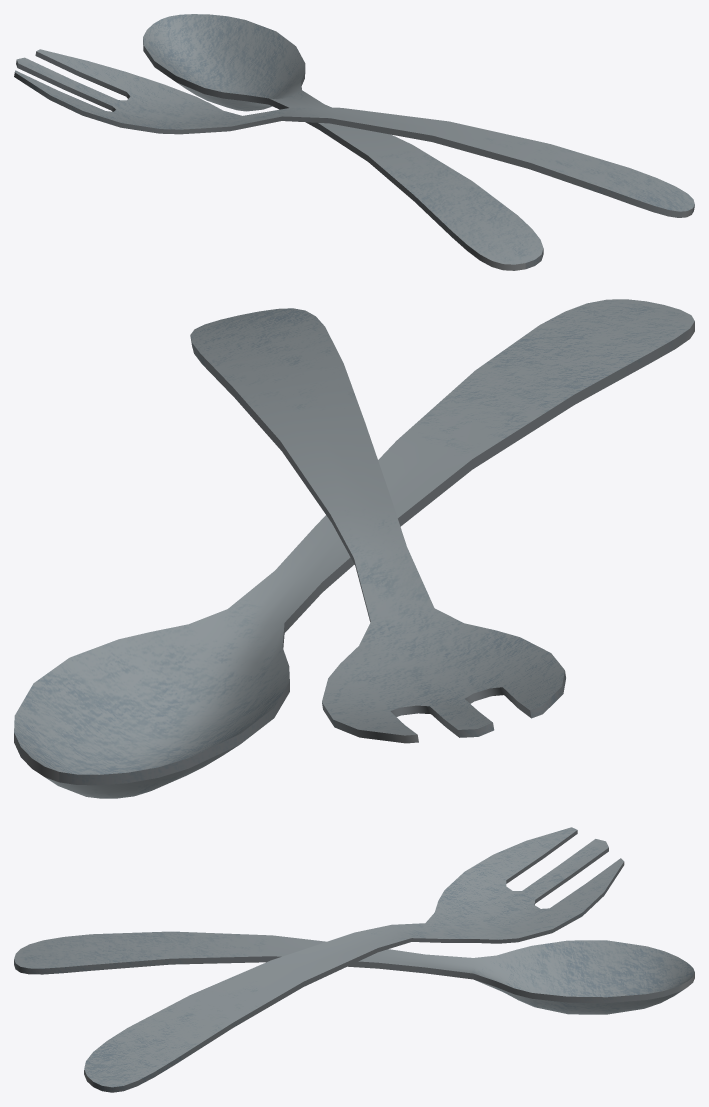
The picture shows the model from 3 angles, top to bottom: view 1: azimuth 30°, elevation 25°; view 2: azimuth 150°, elevation 25°; view 3: azimuth 270°, elevation 25°; orthographic projection. The views are drawn at different scales.
Parts seen in each view (by area): view 1: 숟가락포크; view 2: 숟가락포크; view 3: 숟가락포크.
Part boxes in pixels (<box>): 숟가락포크: <box>14,14,694,270</box>; 숟가락포크: <box>14,299,694,798</box>; 숟가락포크: <box>14,827,694,1092</box>.
Bounding box in the file's own units: 307 × 56.74 × 431.
1 material, 1 textured.
